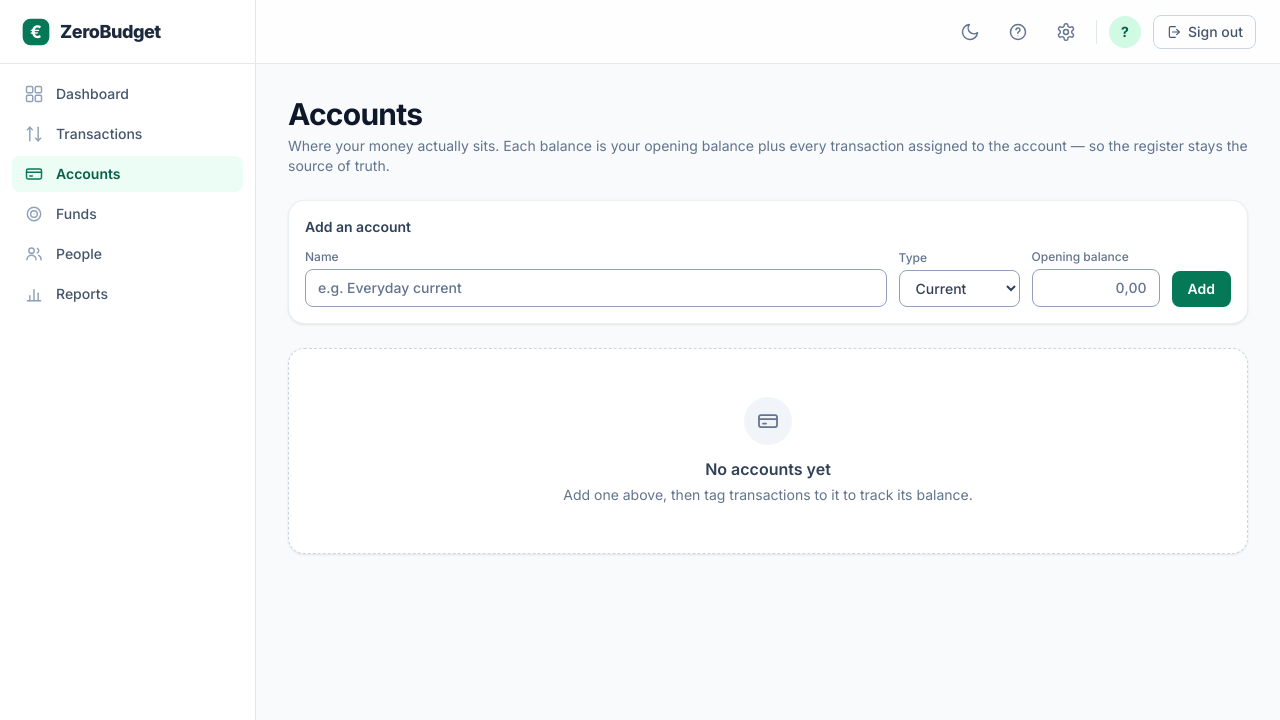
Test: AccountsPage › adds an account
The image size is (1280, 720).
Type "Wallet" into the field named "Account name".
click(596, 288); type("Wallet")  # box [305,269,886,307]
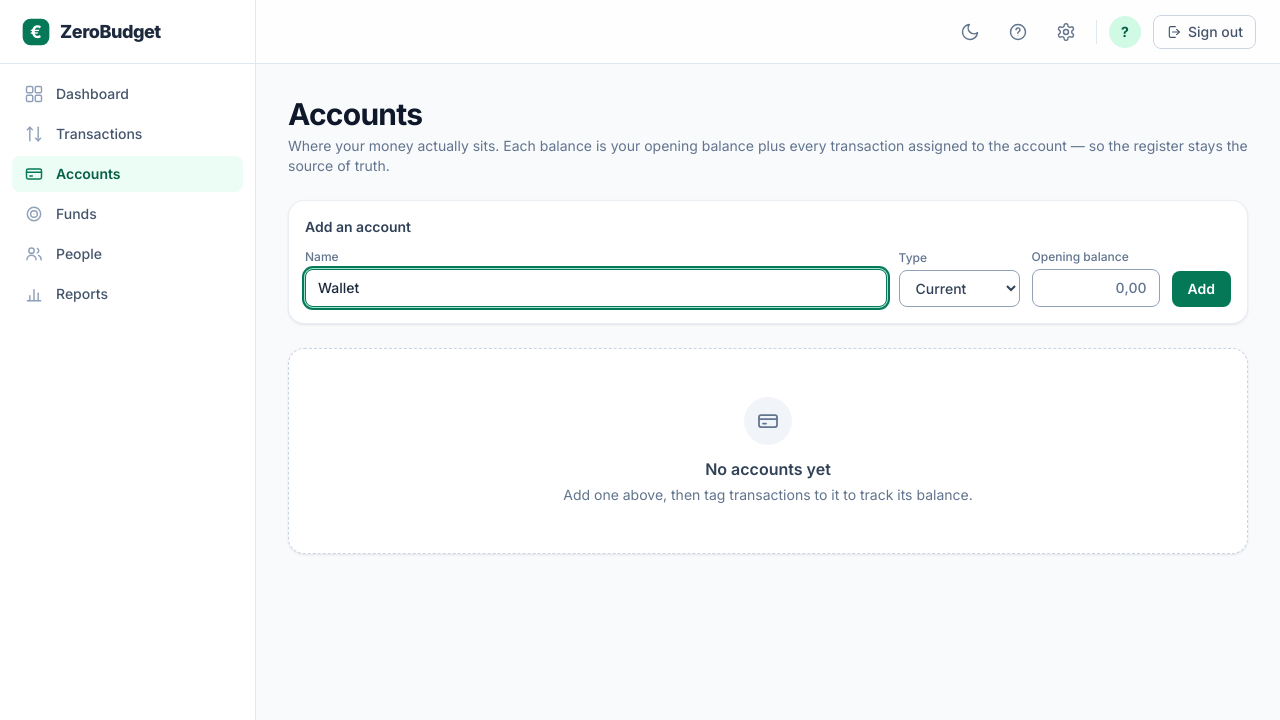
Select "Cash" in the dropdown named "Account type" at (959, 288), box [898,270,1020,307]
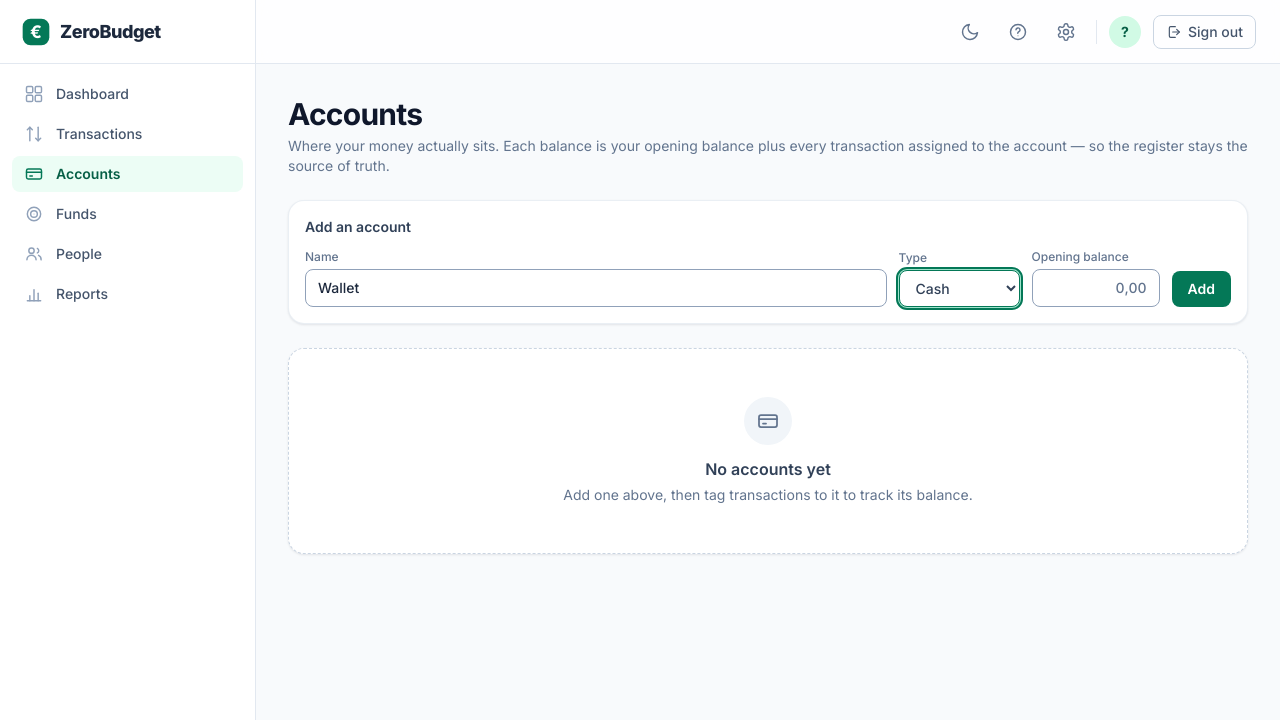
Type "40" into the field labelled "Opening balance".
click(1096, 288); type("40")  # box [1032,269,1160,307]
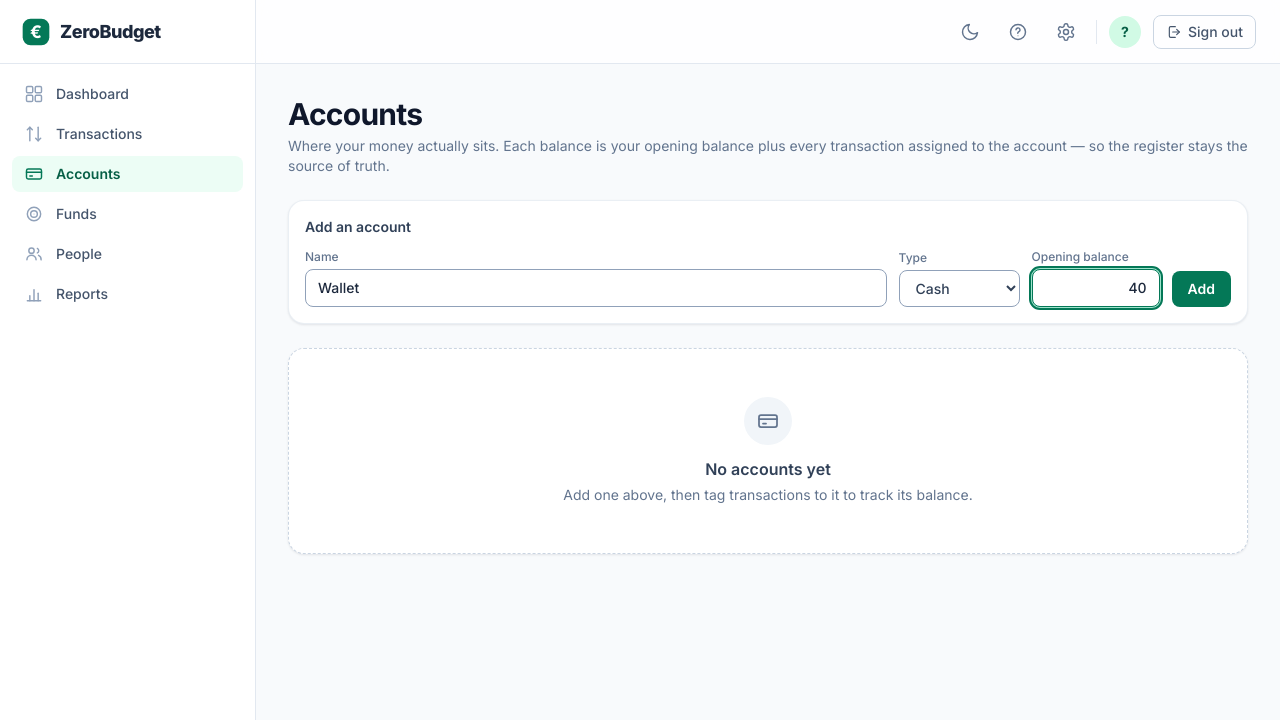
Click the button with aria-label "Add account".
click(1201, 289)  # box [1172,271,1231,307]
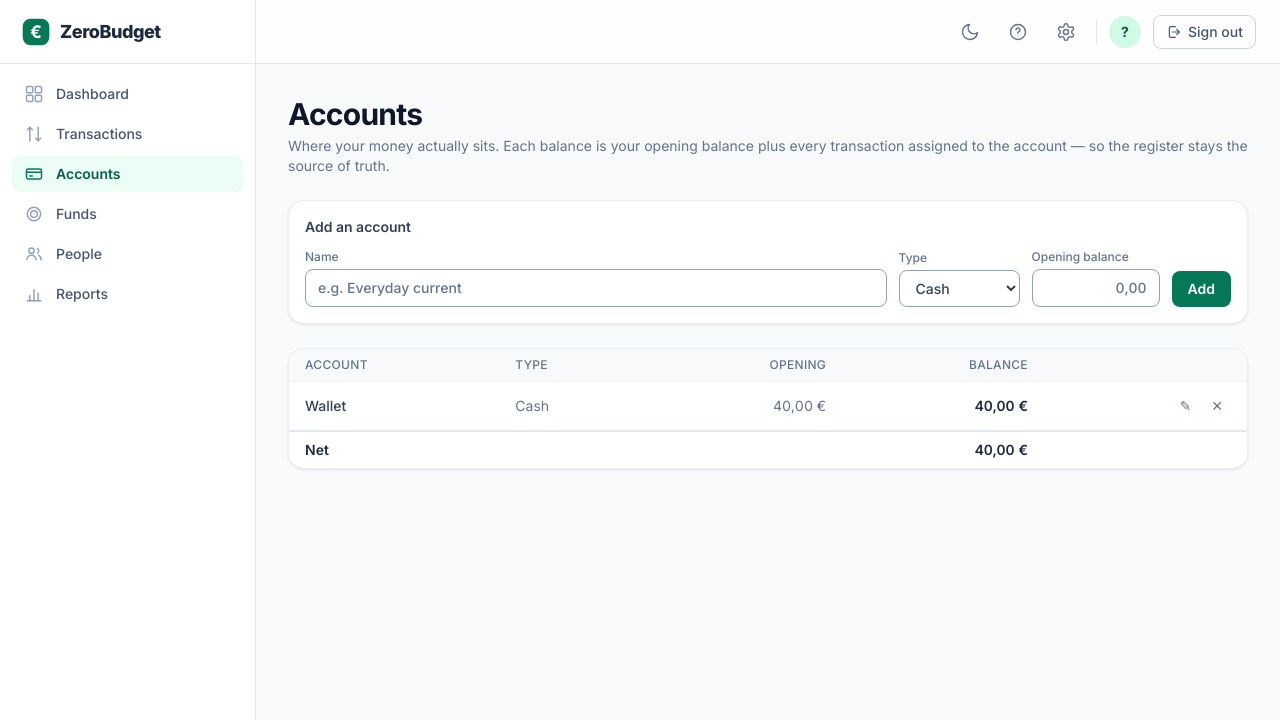
Expected: the text "Wallet" is shown, [289,382,499,431]
